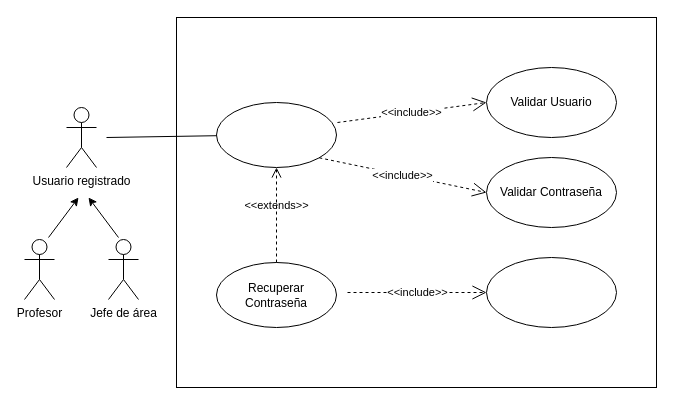
This 674x405 diagram has some shape labels left out. Here are the shapes that lost their labels. From the top down, the centre of each, then its label:
the point at 276,135: Iniciar Sesión
the point at 551,292: Enviar Correo Electrónico de recuperación
